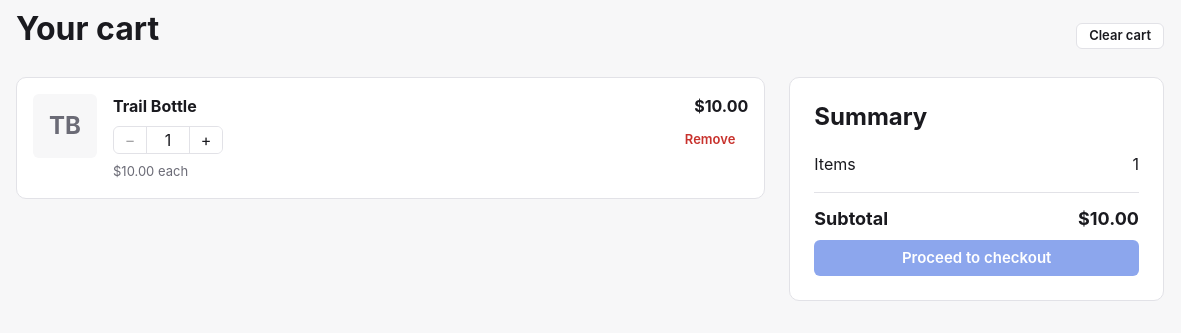
Test case: CartPage › removes a line via the API
The width and height of the screenshot is (1181, 333).
Expected: the text "Trail Bottle" is shown, [113,94,197,118]
Click the button "Remove" at (710, 140), box [672,127,748,153]
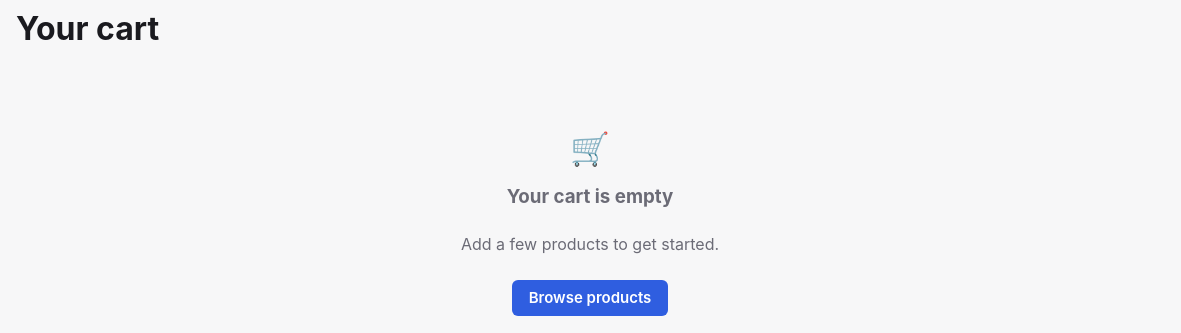
Now the heading "Your cart is empty" is shown, box [507,185,673,208]
